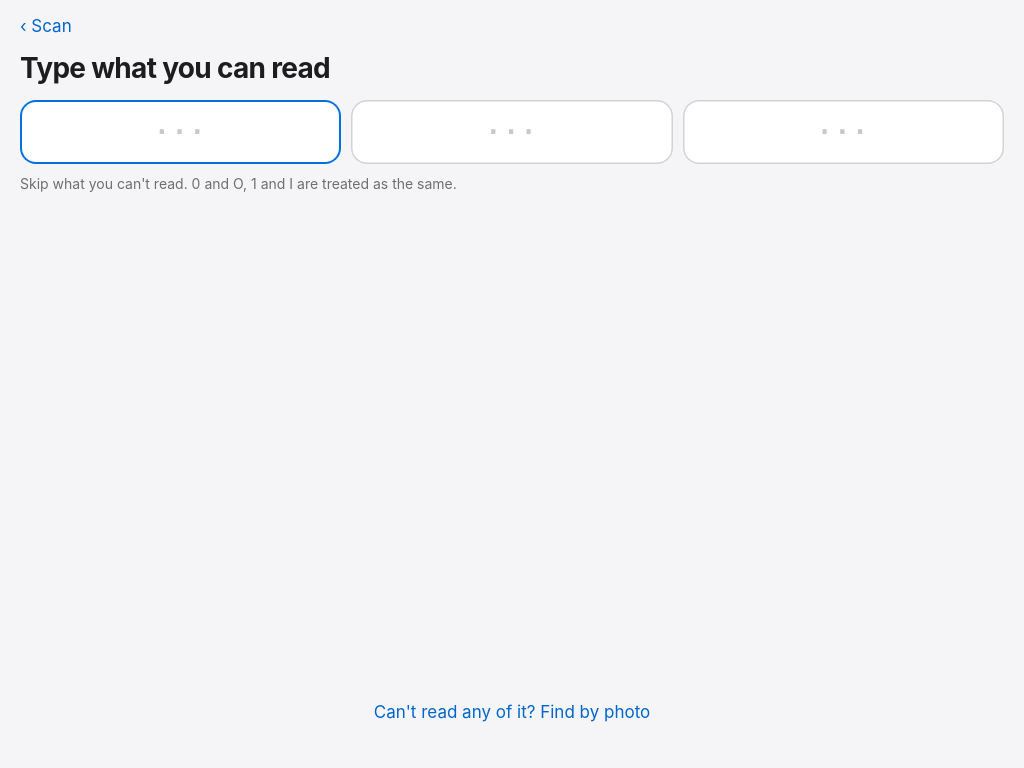
Test: F2 Type what you can read › backspace in an empty box goes back and deletes there
This screenshot has width=1024, height=768.
Type "rni" into the field with test id "code-box-0".
click(181, 132); type("rni")  # box 20,100 -> 341,164
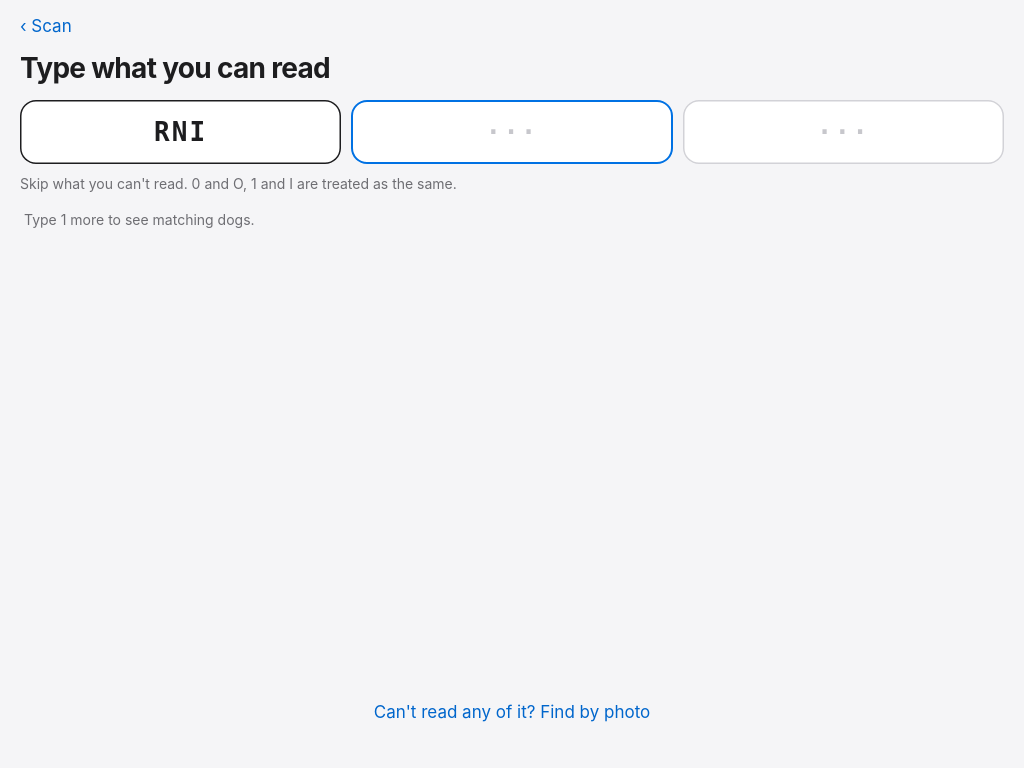
Press Backspace in the field with test id "code-box-1", box 351,100 -> 673,164
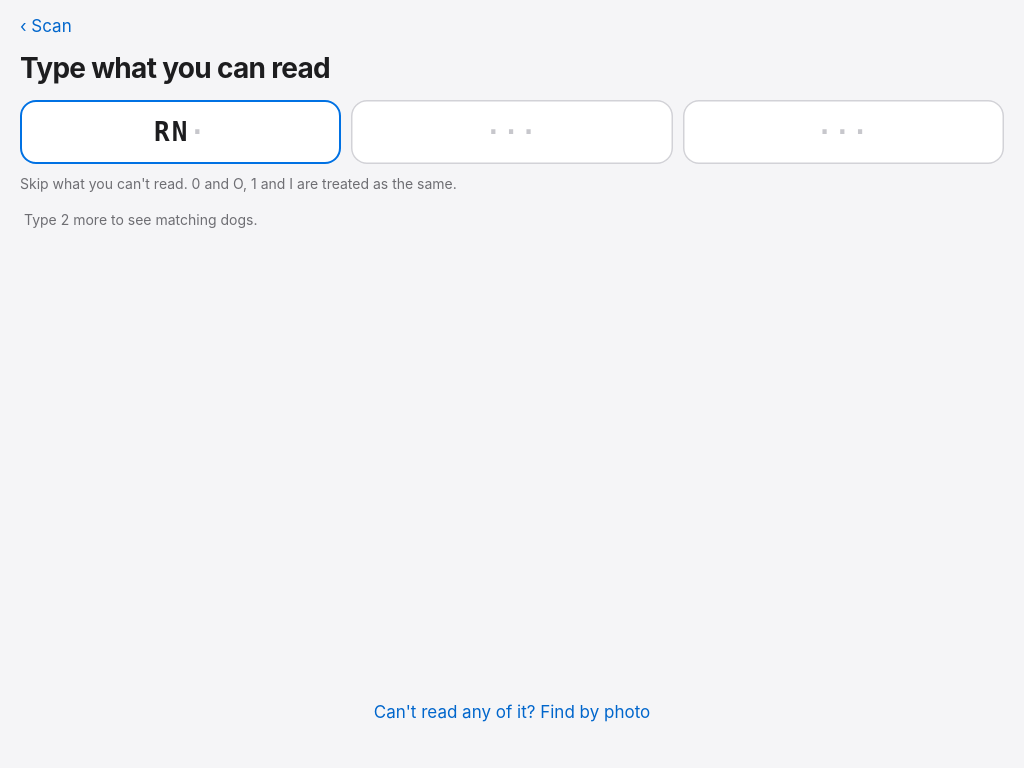
Result: the field with test id "code-box-0" holds "RN" at 20,100 -> 341,164
